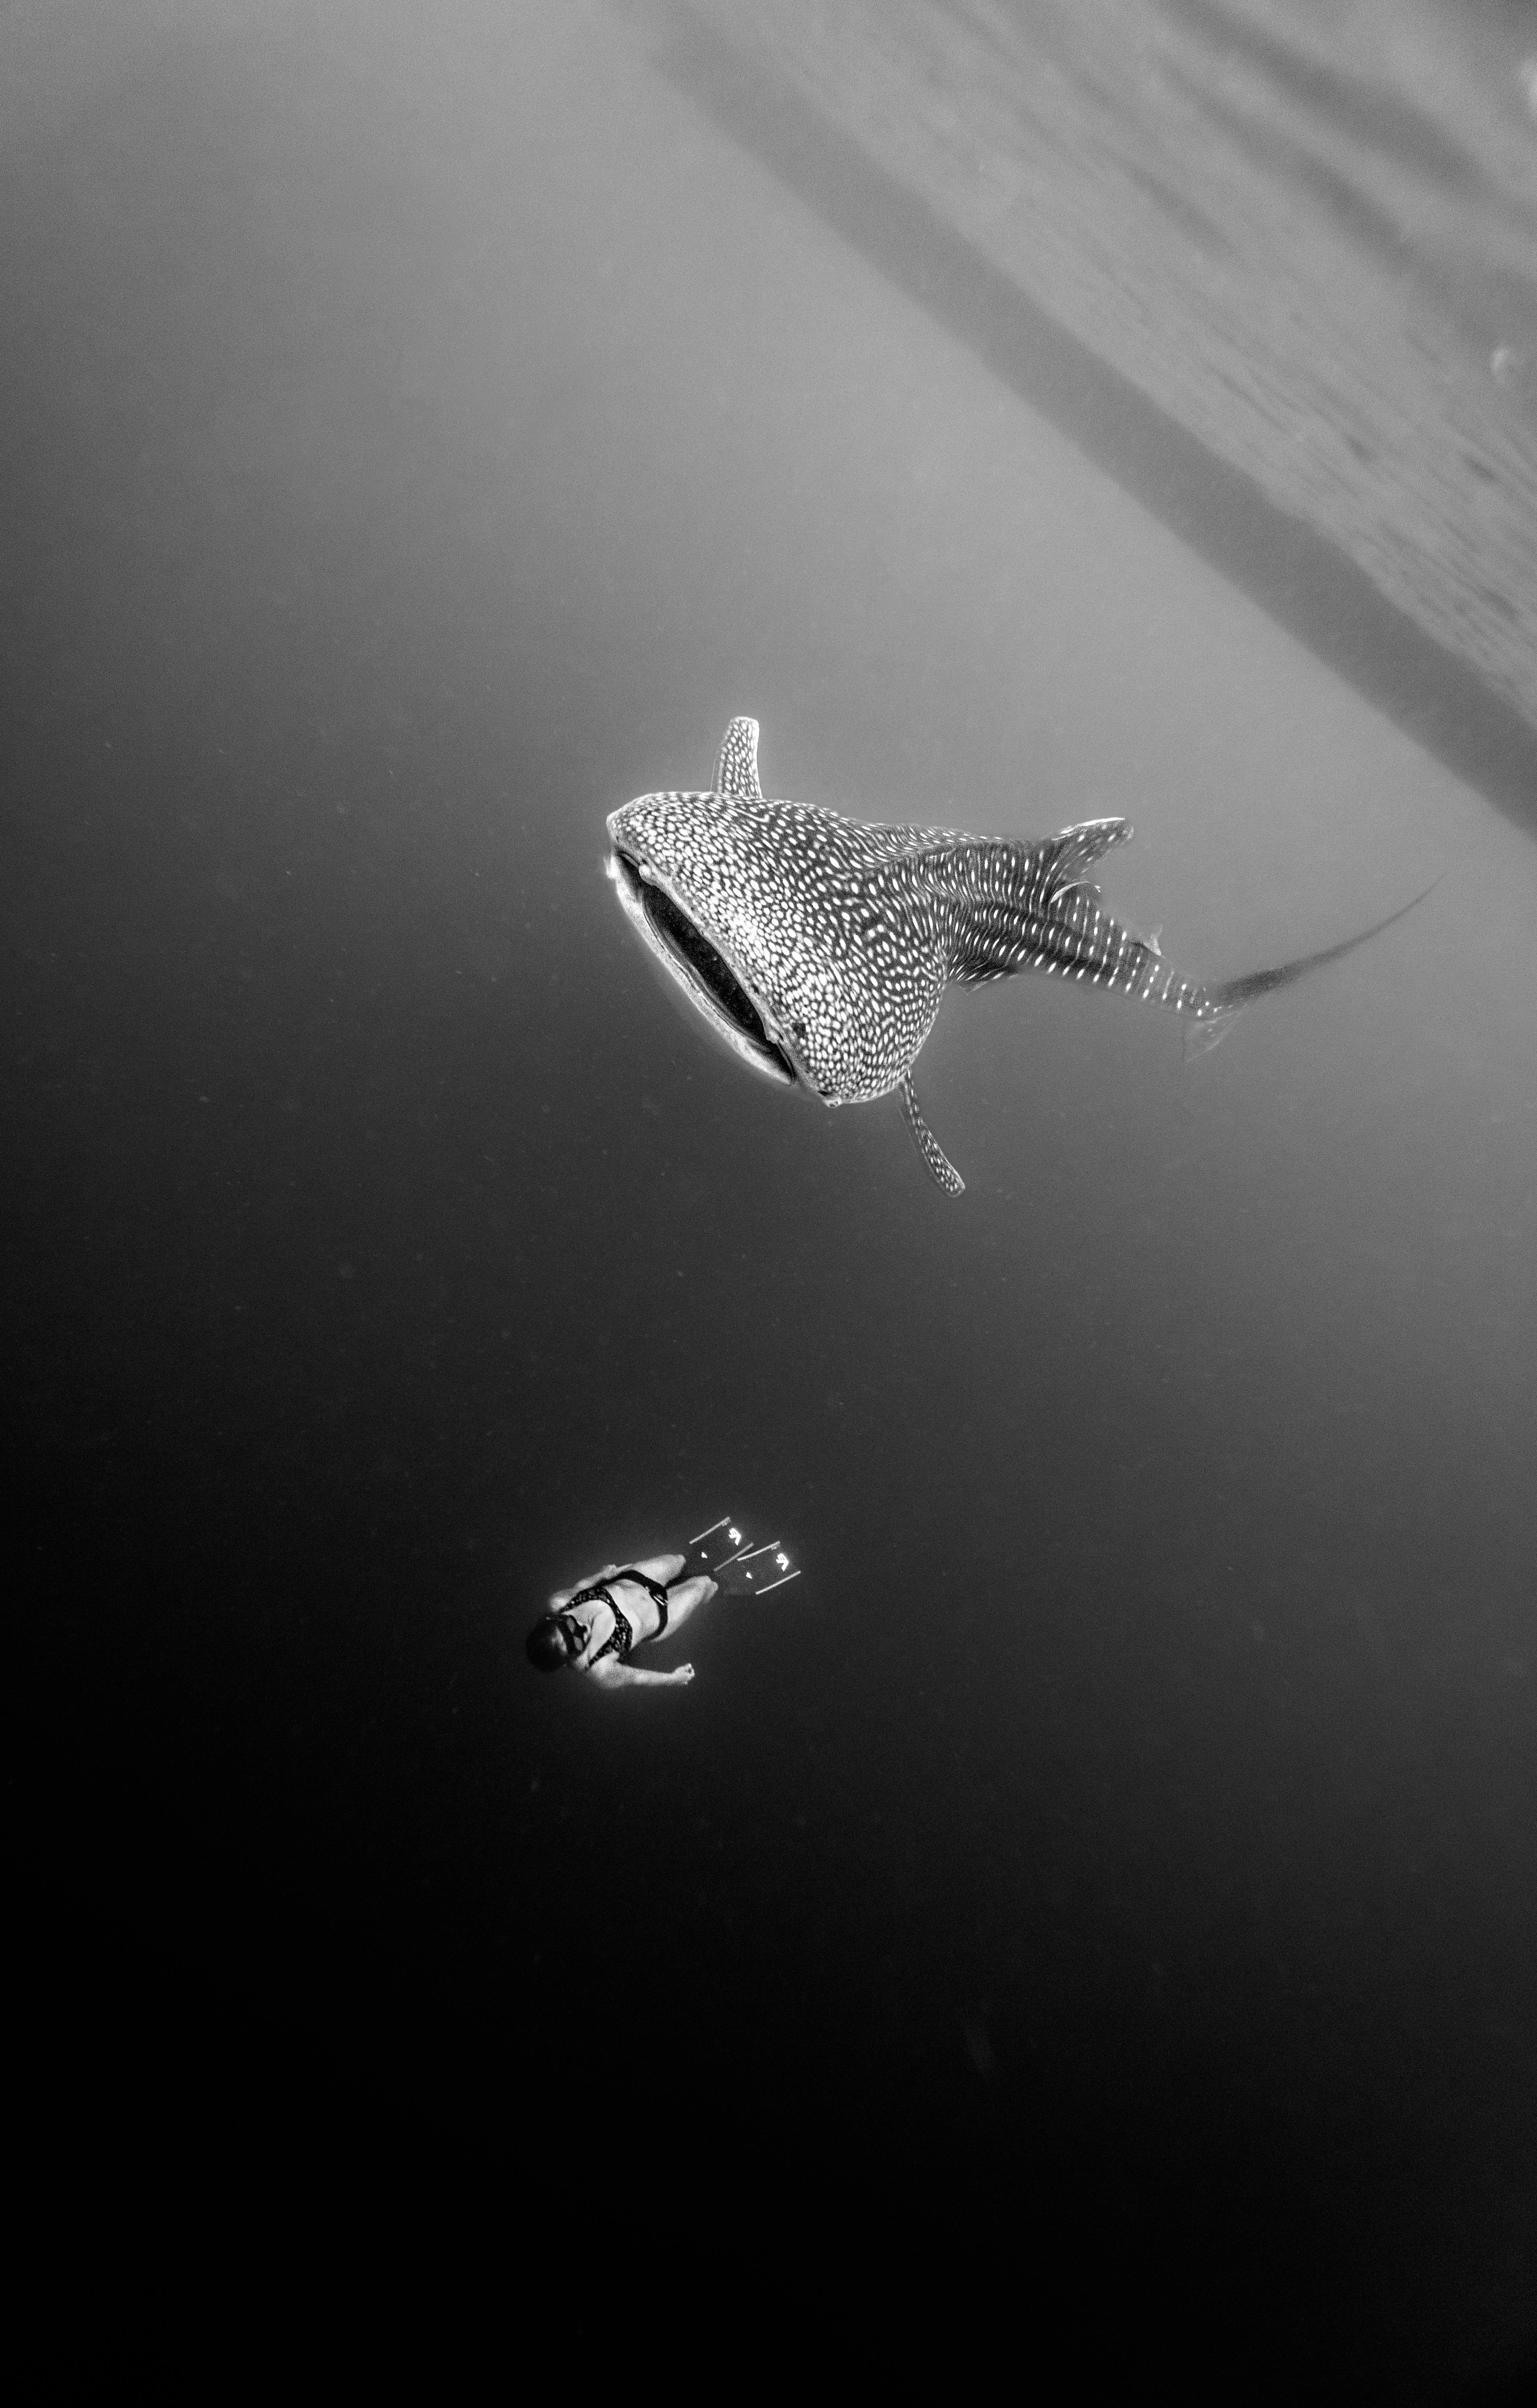shark: (591, 709, 1442, 1206)
